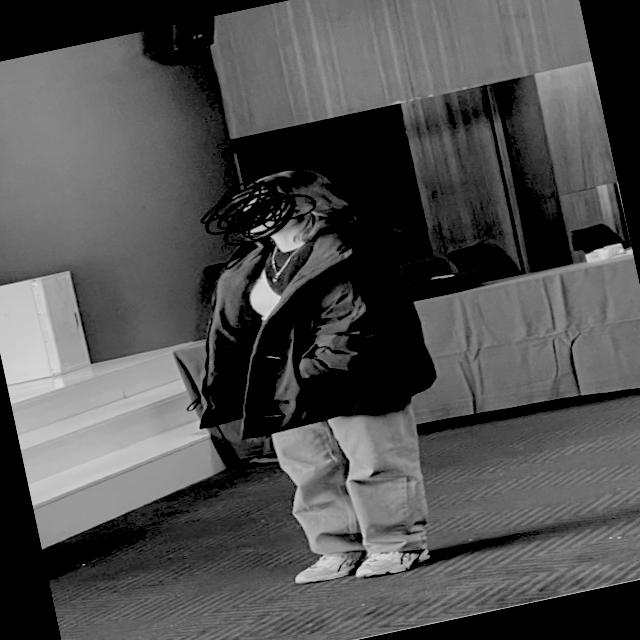denimpants: (266, 393, 447, 579)
padding: (164, 209, 444, 445)
